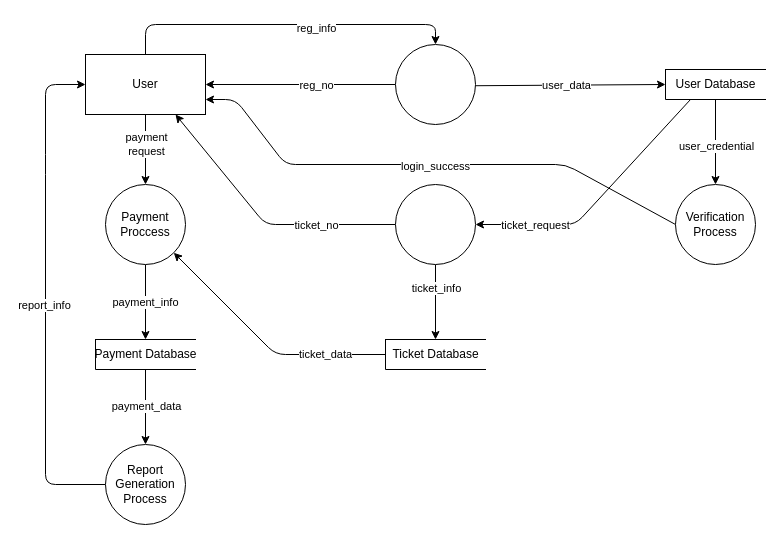
Some shapes in this 783 by 542 pixel diagram are drawn without their labels. The centre of each missing label's shape, as x and y in pixels:
"Registration Process" belongs at [435,84].
"Ticket Issue Process" belongs at [435,224].
